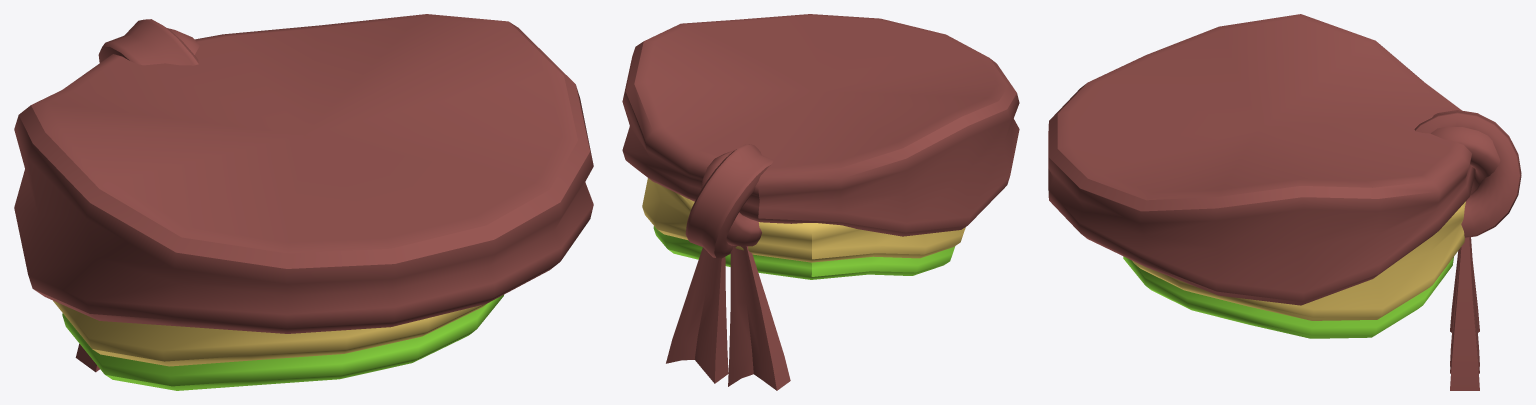
Rendered from Fabric.fbx.
3 views of the same model, side by side, from view 1: azimuth 30°, elevation 25°; view 2: azimuth 150°, elevation 25°; view 3: azimuth 270°, elevation 25° (orthographic). The views are drawn at different scales.
Visible parts, largest first — view 1: pTorus5; view 2: pTorus5; view 3: pTorus5.
Boxes of the visible parts, left/top/right/bottom form: pTorus5: left=14, top=14, right=593, bottom=390; pTorus5: left=622, top=14, right=1019, bottom=390; pTorus5: left=1048, top=14, right=1521, bottom=390.
Bounding box in the file's own units: 3.25 × 2.28 × 3.59.
